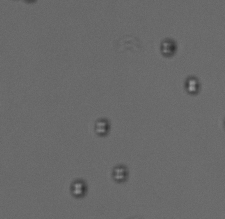Living Cell: (68, 178, 89, 197), (159, 38, 176, 56), (184, 75, 199, 95), (112, 165, 129, 182), (95, 117, 109, 137)
